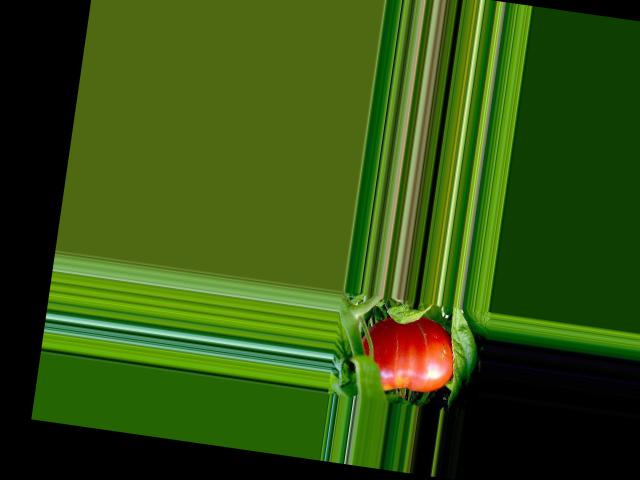tomato: (355, 309, 460, 400)
